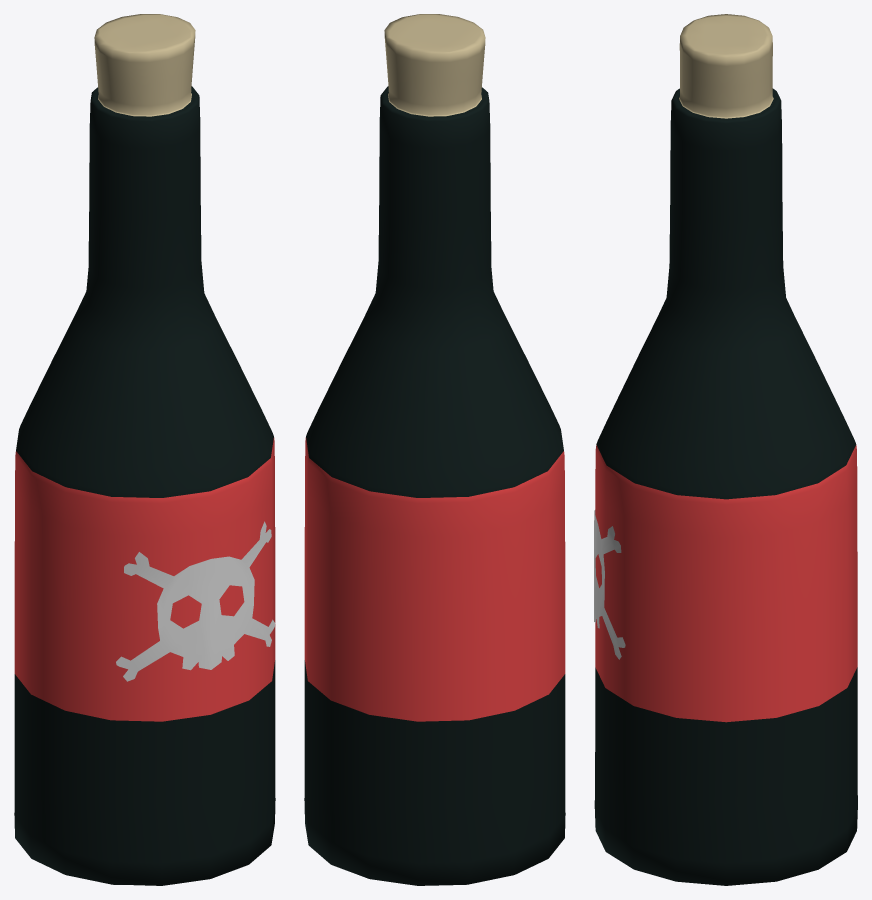
File: Botella.fbx
3 views of the same model, side by side, from view 1: azimuth 30°, elevation 25°; view 2: azimuth 150°, elevation 25°; view 3: azimuth 270°, elevation 25° (orthographic).
Parts seen in each view (by area): view 1: Cube, Plane; view 2: Cube; view 3: Cube, Plane.
Part boxes in pixels (x1,y1,x2,y2): Cube: (14, 14, 275, 885); Plane: (116, 521, 275, 681); Cube: (304, 14, 565, 885); Cube: (594, 14, 857, 885); Plane: (594, 510, 625, 659).
Size of the model in its own units: 185 by 620 by 185.
